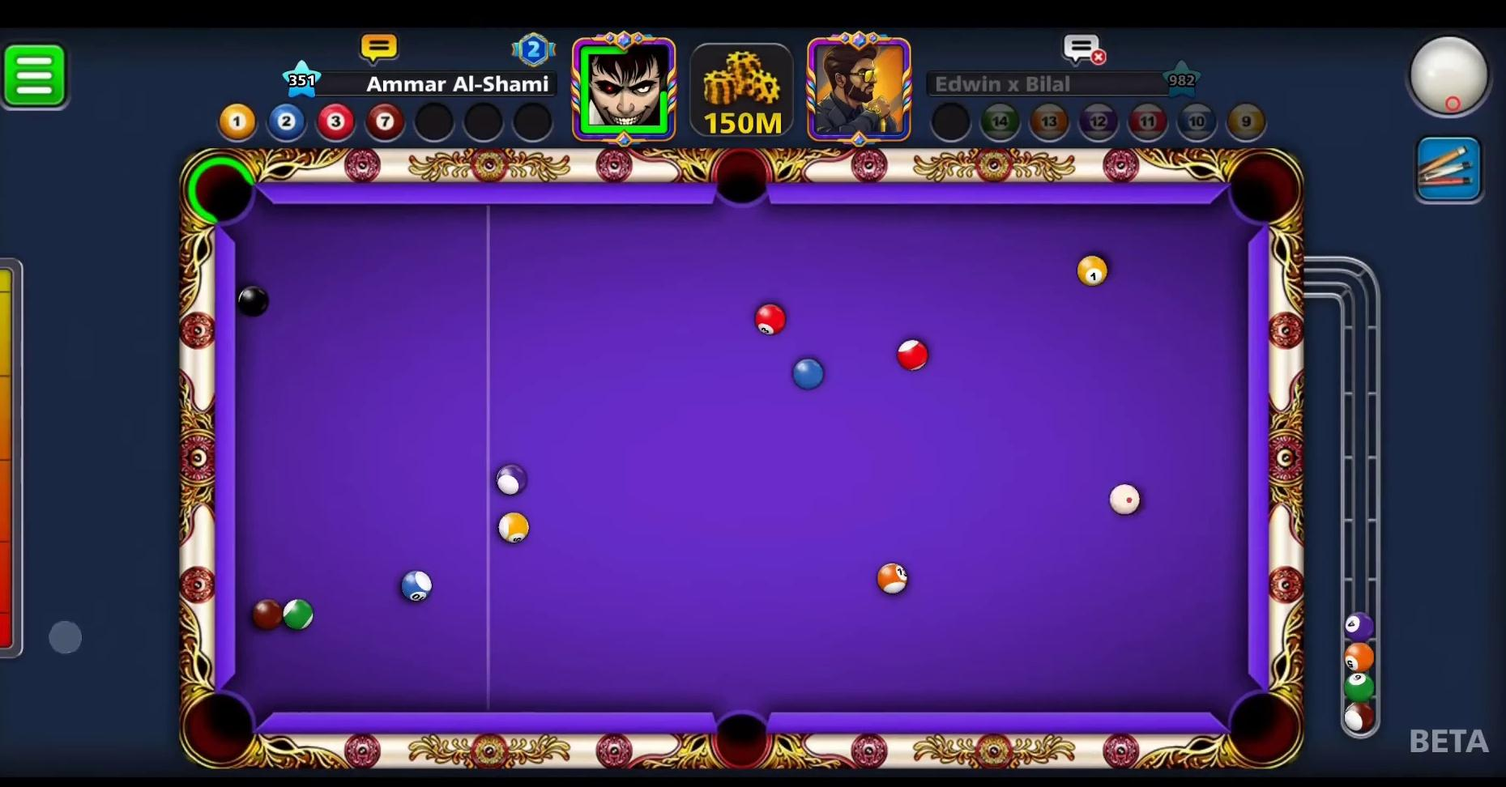Ball: (241, 587, 291, 645), (488, 501, 539, 554), (393, 562, 442, 612), (225, 282, 279, 322), (277, 589, 322, 636), (487, 457, 535, 501), (872, 555, 913, 601), (1070, 252, 1118, 291), (743, 300, 791, 338), (894, 334, 936, 374), (787, 355, 825, 393)
Hole: (1214, 679, 1310, 776), (173, 683, 268, 775), (175, 139, 266, 235), (1220, 140, 1303, 236), (701, 141, 783, 222), (704, 694, 781, 778)
Play_Area: (232, 204, 1239, 717)
Spin: (1401, 26, 1504, 133)
White: (1103, 479, 1146, 521)
